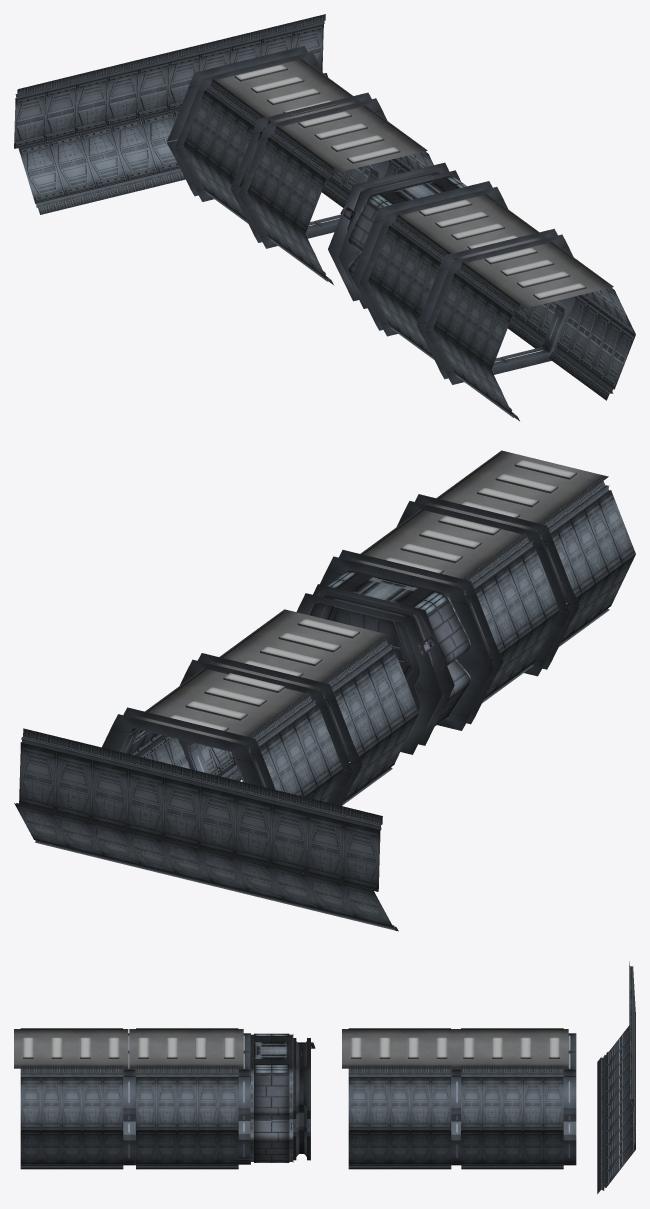
File: env_emp_gozanti_freighter_int_02_pre.glb
The picture shows the model from 3 angles, top to bottom: view 1: azimuth 30°, elevation 25°; view 2: azimuth 150°, elevation 25°; view 3: azimuth 270°, elevation 25°; orthographic projection. The views are drawn at different scales.
Parts seen in each view (by area): view 1: emp_gf_wall_01a_mesh (×14), emp_gf_wall_01a_mesh (3), emp_gf_ceiling_01_mesh (3) (×2), emp_gf_wall_01a_mesh (1), emp_gf_arch_pillar_01_mesh (2) (×3), emp_gf_ceiling_01_mesh (2), emp_gf_arch_pillar_01_mesh (1) (×2), emp_gf_ceiling_01_mesh, emp_gf_arch_pillar_02a_mesh (×2), emp_gf_arch_pillar_01_mesh (4) (×2), emp_gf_wall_arch_02c_mesh, emp_gf_arch_pillar_01_mesh (3); view 2: emp_gf_wall_01a_mesh (×10), emp_gf_wall_01a_mesh (1), emp_gf_ceiling_01_mesh (3) (×2), emp_gf_arch_pillar_01_mesh (2) (×3), emp_gf_arch_pillar_01_mesh (1) (×2), emp_gf_ceiling_01_mesh (2), emp_gf_ceiling_01_mesh, emp_gf_arch_pillar_02a_mesh (×2), emp_gf_wall_01a_mesh (3), emp_gf_wall_01a_mesh (2), emp_gf_wall_arch_02c_mesh, emp_gf_arch_pillar_01_mesh (3) (+3 smaller); view 3: emp_gf_wall_01a_mesh (×9), emp_gf_ceiling_01_mesh (3) (×2), emp_gf_ceiling_01_mesh (2), emp_gf_ceiling_01_mesh, emp_gf_wall_arch_02c_mesh, emp_gf_wall_01a_mesh (2), emp_gf_wall_01a_mesh (3), emp_gf_arch_pillar_01_mesh (2) (×3), emp_gf_arch_pillar_02a_mesh (×2), emp_gf_wall_arch_02c_mesh (1), emp_gf_arch_pillar_01_mesh (1) (×2), emp_gf_arch_pillar_01_mesh (4) (×2) (+2 smaller).
Boxes of the visible parts, <box> form: emp_gf_wall_01a_mesh (×14): <box>168,14,635,421</box>; emp_gf_wall_01a_mesh (3): <box>18,110,185,214</box>; emp_gf_ceiling_01_mesh (3) (×2): <box>211,59,427,172</box>; emp_gf_wall_01a_mesh (1): <box>14,51,171,148</box>; emp_gf_arch_pillar_01_mesh (2) (×3): <box>166,46,575,384</box>; emp_gf_ceiling_01_mesh (2): <box>461,242,613,309</box>; emp_gf_arch_pillar_01_mesh (1) (×2): <box>351,181,573,330</box>; emp_gf_ceiling_01_mesh: <box>395,194,546,260</box>; emp_gf_arch_pillar_02a_mesh (×2): <box>328,162,460,308</box>; emp_gf_arch_pillar_01_mesh (4) (×2): <box>167,140,389,248</box>; emp_gf_wall_arch_02c_mesh: <box>348,176,470,251</box>; emp_gf_arch_pillar_01_mesh (3): <box>351,274,427,336</box>; emp_gf_wall_01a_mesh (×10): <box>19,477,635,847</box>; emp_gf_wall_01a_mesh (1): <box>198,772,382,891</box>; emp_gf_ceiling_01_mesh (3) (×2): <box>136,609,391,744</box>; emp_gf_arch_pillar_01_mesh (2) (×3): <box>102,604,579,789</box>; emp_gf_arch_pillar_01_mesh (1) (×2): <box>320,494,579,668</box>; emp_gf_ceiling_01_mesh (2): <box>427,450,608,530</box>; emp_gf_ceiling_01_mesh: <box>351,509,527,586</box>; emp_gf_arch_pillar_02a_mesh (×2): <box>296,584,454,754</box>; emp_gf_wall_01a_mesh (3): <box>194,847,398,931</box>; emp_gf_wall_01a_mesh (2): <box>14,803,215,886</box>; emp_gf_wall_arch_02c_mesh: <box>317,570,470,673</box>; emp_gf_arch_pillar_01_mesh (3): <box>437,659,503,730</box>; emp_gf_wall_01a_mesh (×9): <box>20,1028,635,1169</box>; emp_gf_ceiling_01_mesh (3) (×2): <box>342,1029,568,1068</box>; emp_gf_ceiling_01_mesh (2): <box>14,1029,128,1068</box>; emp_gf_ceiling_01_mesh: <box>129,1029,243,1068</box>; emp_gf_wall_arch_02c_mesh: <box>250,1033,293,1119</box>; emp_gf_wall_01a_mesh (2): <box>597,1092,635,1193</box>; emp_gf_wall_01a_mesh (3): <box>597,1025,629,1127</box>; emp_gf_arch_pillar_01_mesh (2) (×3): <box>122,1033,576,1165</box>; emp_gf_arch_pillar_02a_mesh (×2): <box>293,1038,310,1160</box>; emp_gf_wall_arch_02c_mesh (1): <box>250,1119,293,1162</box>; emp_gf_arch_pillar_01_mesh (1) (×2): <box>123,1033,250,1120</box>; emp_gf_arch_pillar_01_mesh (4) (×2): <box>450,1121,576,1165</box>.
Bounding box in the file's own units: 23.51 × 8.9 × 45.95.
Materials: 6 (6 with a texture image).
